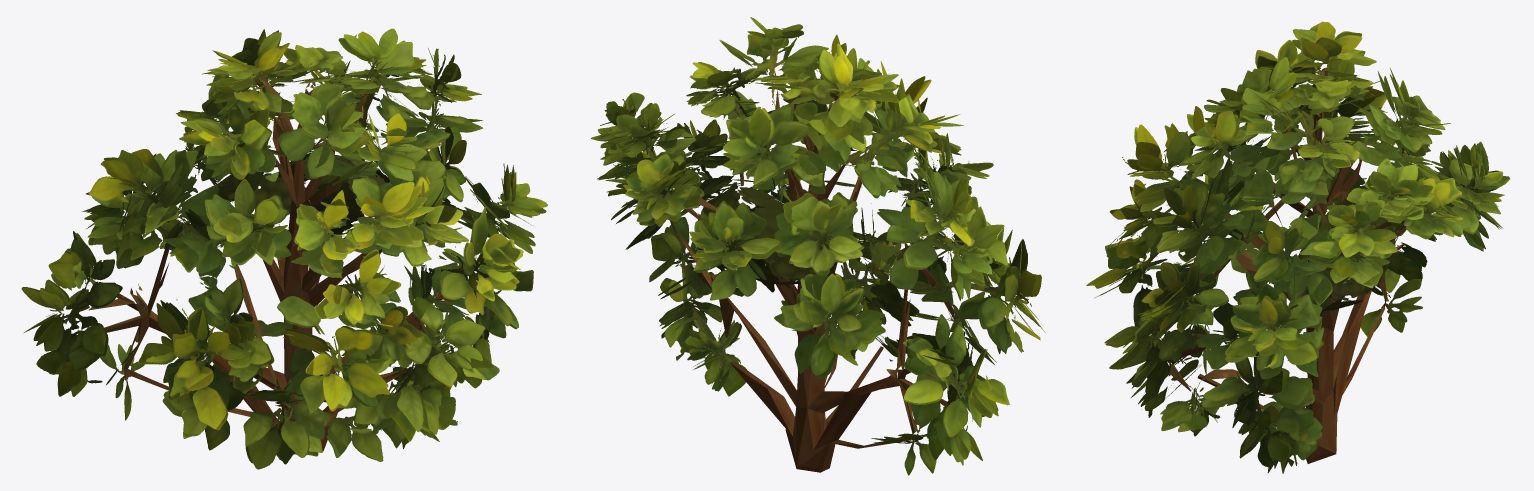
The model's file is cali.glb.
3 renders of one model, left to right at view 1: azimuth 30°, elevation 25°; view 2: azimuth 150°, elevation 25°; view 3: azimuth 270°, elevation 25°, orthographic. The views are drawn at different scales.
Visible parts, largest first — view 1: cali; view 2: cali; view 3: cali.
Part boxes in pixels (bbox=[...]): cali: bbox=[21, 28, 547, 469]; cali: bbox=[591, 17, 1045, 475]; cali: bbox=[1086, 21, 1510, 473].
Size of the model in its own units: 1.37 by 1.21 by 1.14.
Materials: 2 (2 with a texture image).
